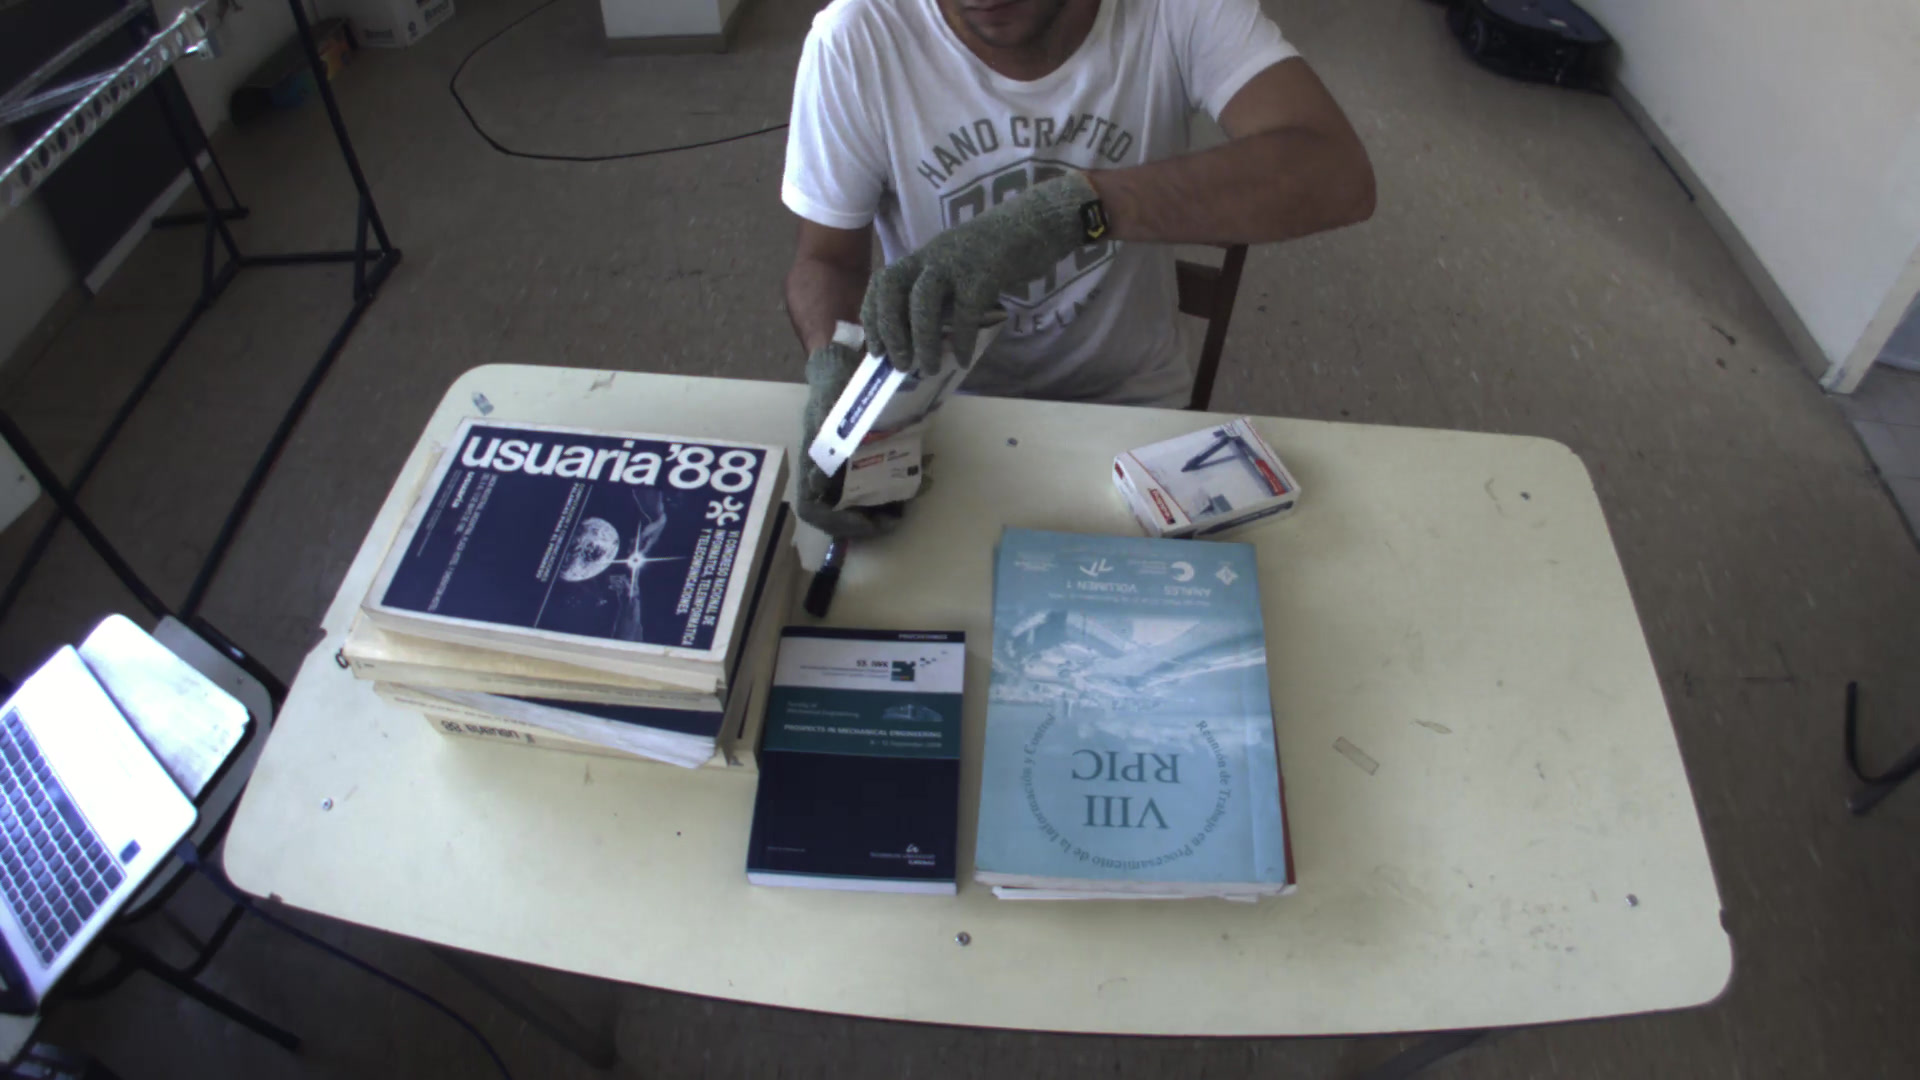hand: (849, 158, 1105, 375)
